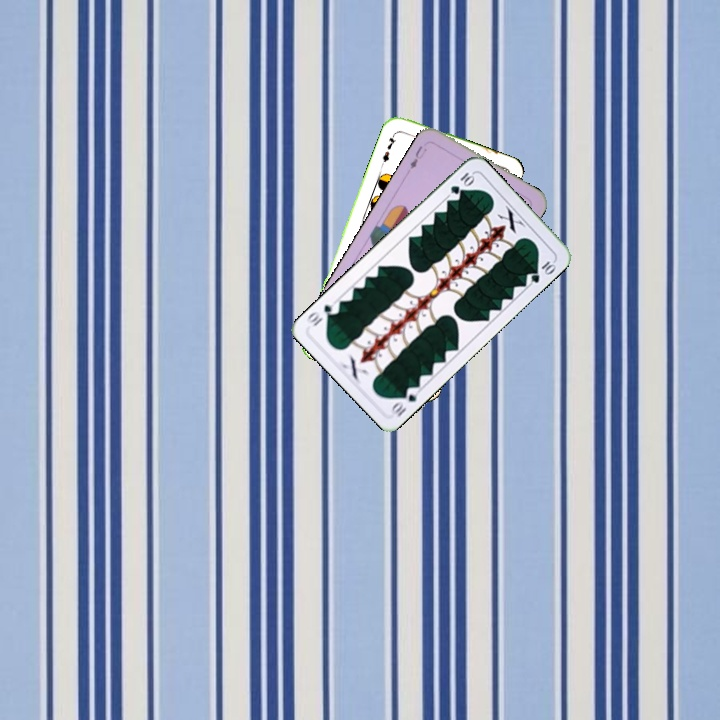E7: (378, 128, 400, 167)
EU: (406, 142, 430, 172)
G10: (387, 382, 419, 420), (446, 168, 478, 197)
